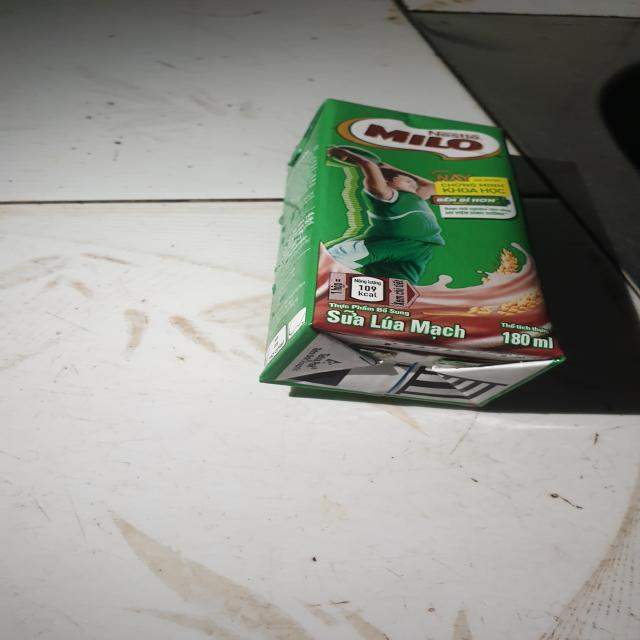Milo: (253, 97, 575, 414)
